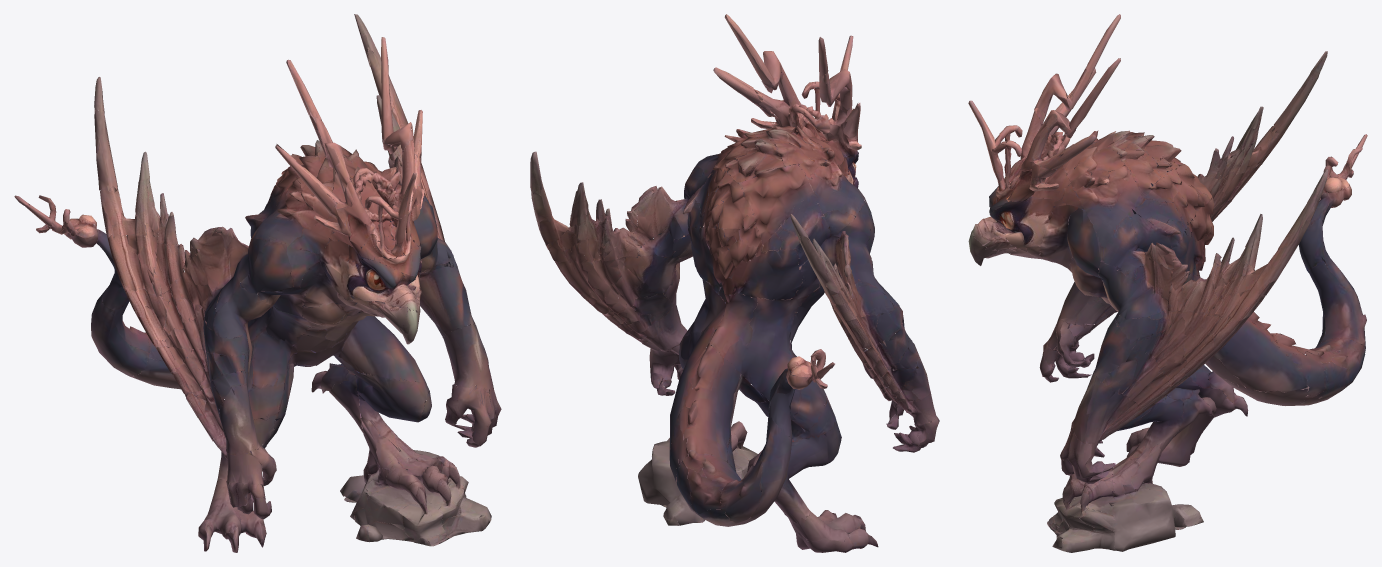
3 renders of one model, left to right at view 1: azimuth 30°, elevation 25°; view 2: azimuth 150°, elevation 25°; view 3: azimuth 270°, elevation 25°, orthographic. The views are drawn at different scales.
Parts seen in each view (by area): view 1: Mesh_0; view 2: Mesh_0; view 3: Mesh_0.
Part boxes in pixels (bbox=[...]): Mesh_0: bbox=[14, 14, 501, 552]; Mesh_0: bbox=[530, 14, 939, 552]; Mesh_0: bbox=[968, 14, 1367, 552].
Size of the model in its own units: 1.43 by 1.9 by 1.5.
Materials: 1 (1 with a texture image).
